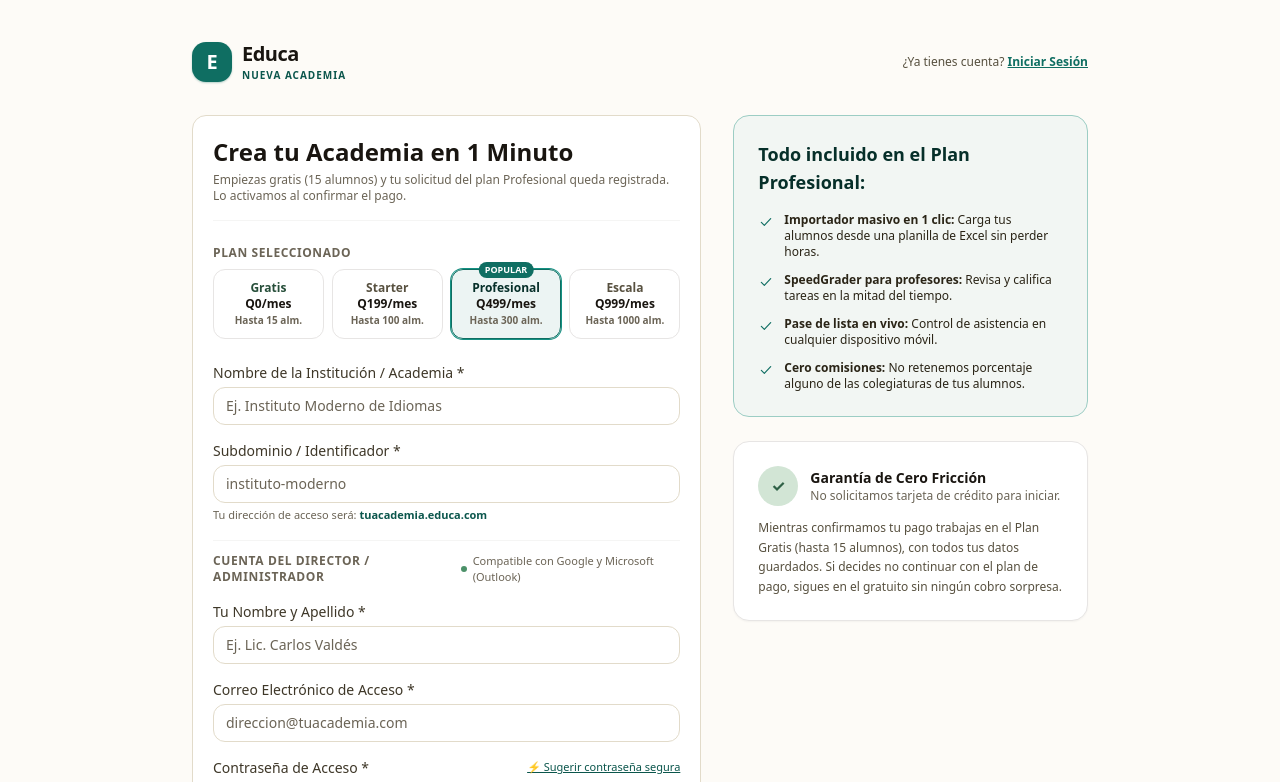
Scenario: RegisterAcademy › auto-generates slug based on academy name input
This screenshot has width=1280, height=782.
Type "Academia Éxito Total" into the field with placeholder "Ej. Instituto Moderno de Idiomas" at (447, 406), box [213,387,680,425]
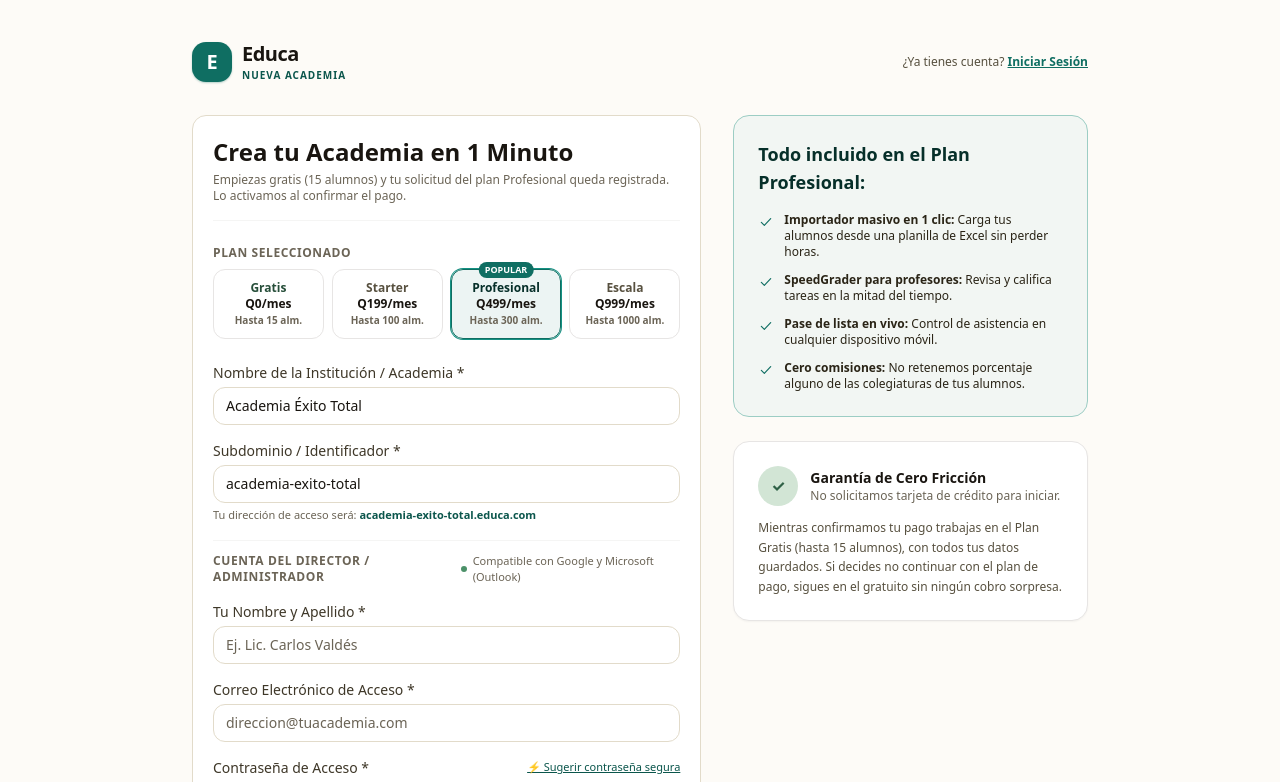
Result: the text "academia-exito-total.educa.com" is shown at [359,507,536,522]
